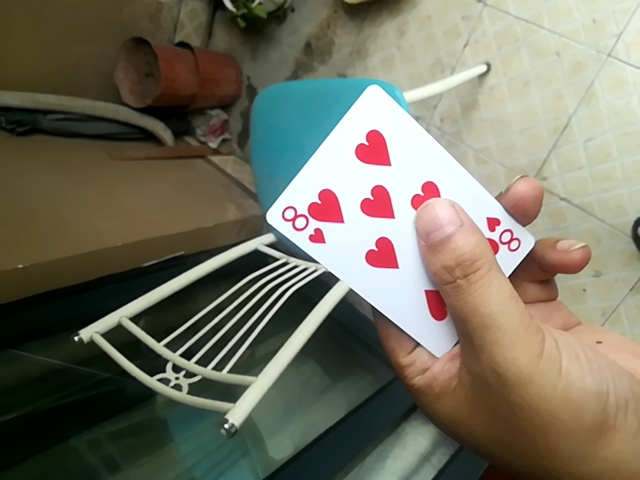hx 8: (256, 86, 525, 363)
